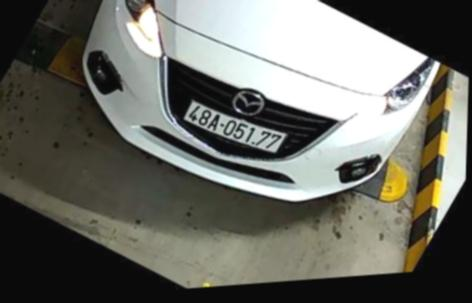License_Plate: (184, 91, 288, 163)
